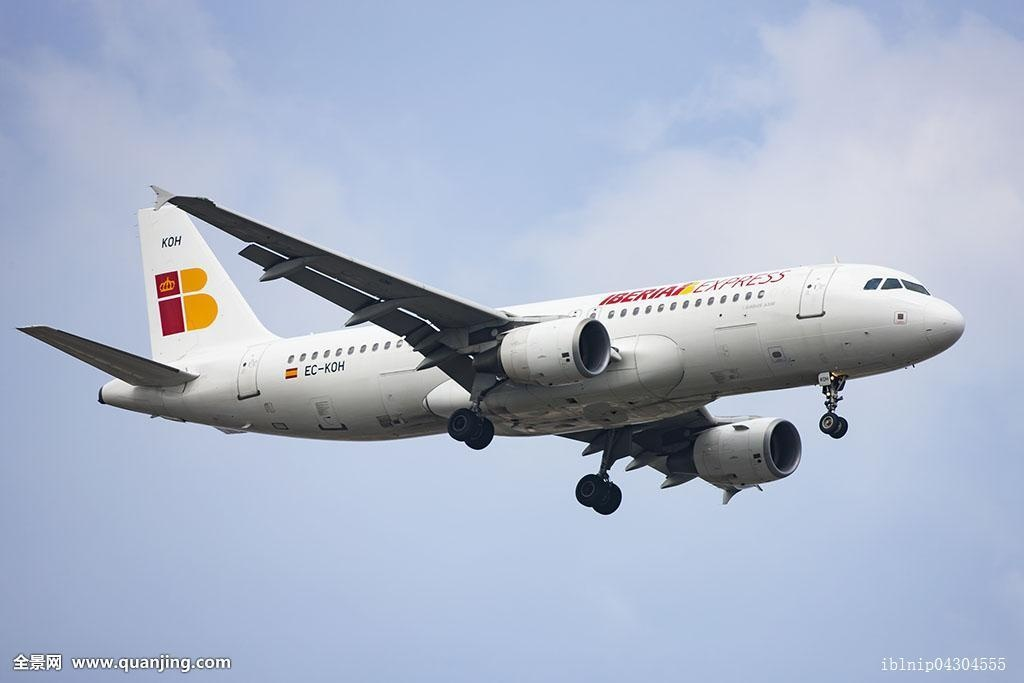airplane: (14, 181, 968, 510)
